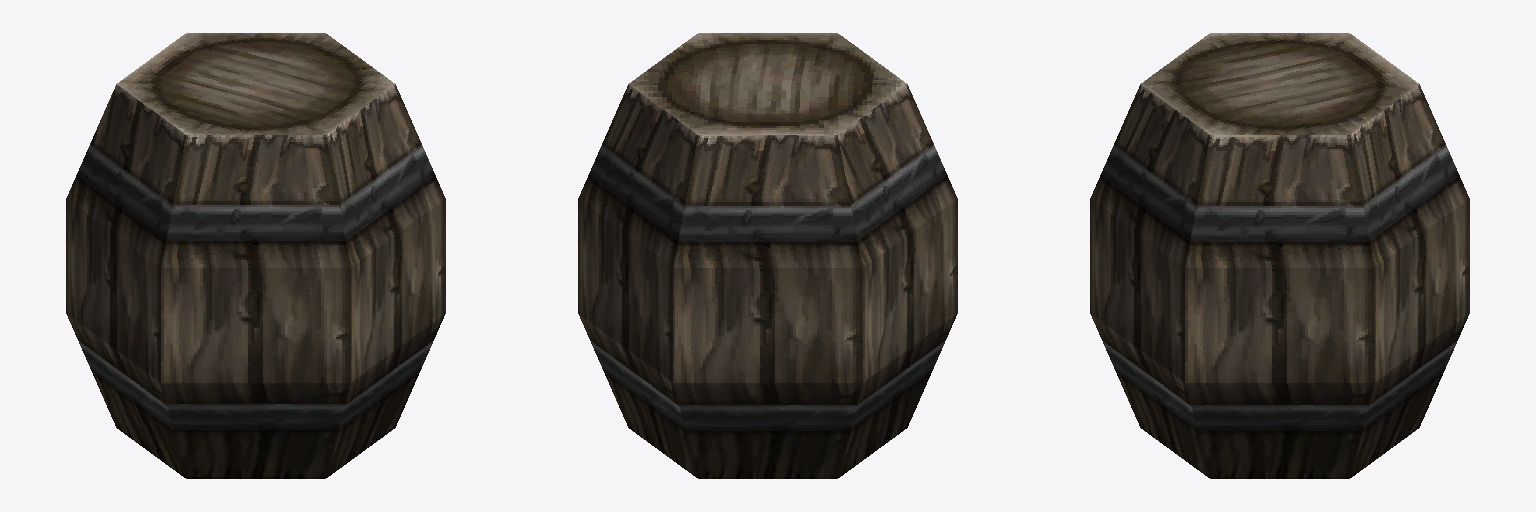
3 views of the same model, side by side, from view 1: azimuth 30°, elevation 25°; view 2: azimuth 150°, elevation 25°; view 3: azimuth 270°, elevation 25° (orthographic).
Parts seen in each view (by area): view 1: karazahnbarrel01; view 2: karazahnbarrel01; view 3: karazahnbarrel01.
Part boxes in pixels (x1,y1,x2,y2): karazahnbarrel01: (66,33,445,478); karazahnbarrel01: (578,33,957,478); karazahnbarrel01: (1090,33,1469,478).
Bounding box in the file's own units: 0.89 × 1.03 × 1.03.
Materials: 1 (1 with a texture image).